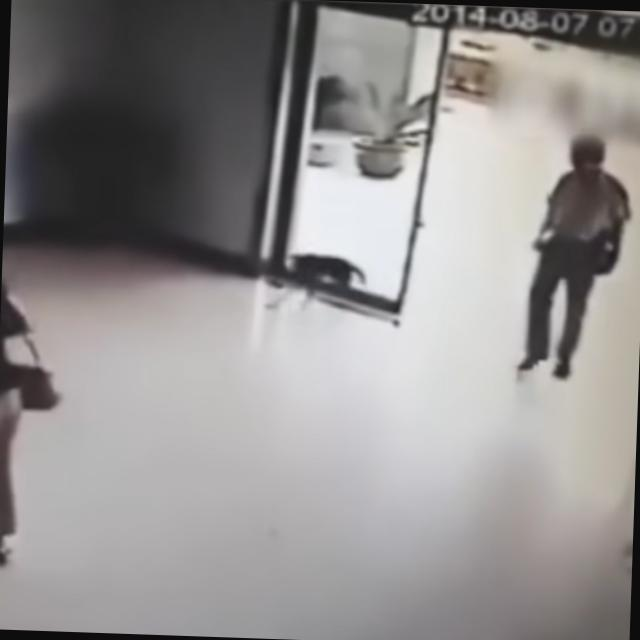person: (516, 135, 634, 381), (0, 279, 65, 566)
